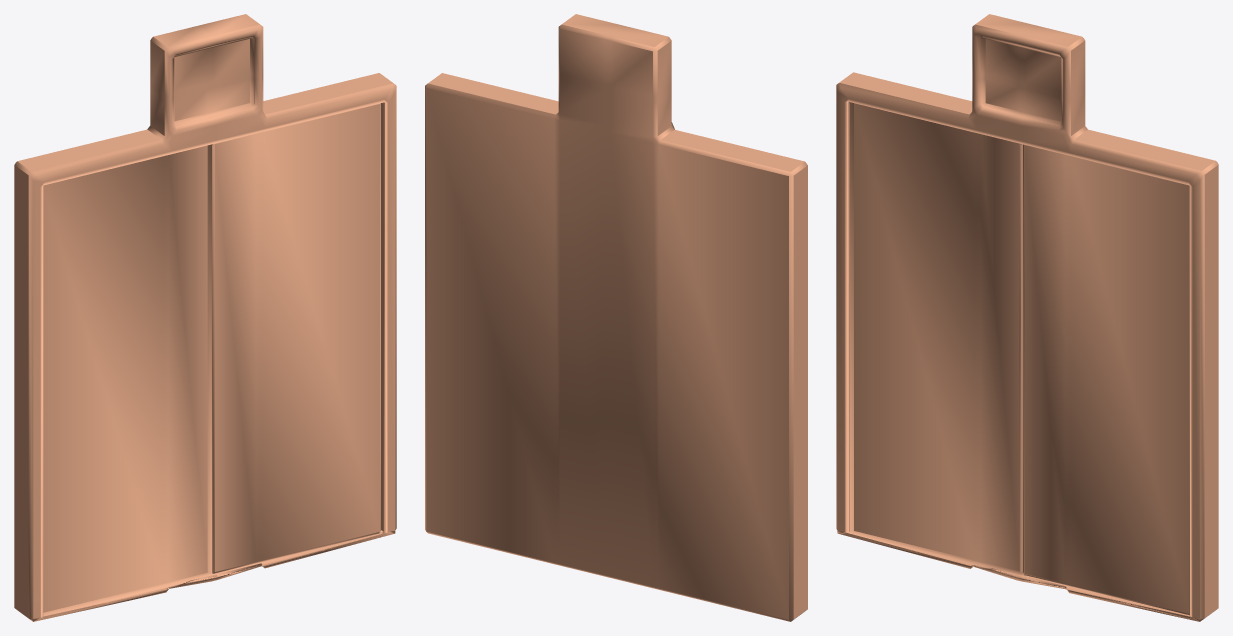
File: Elevator.fbx
The picture shows the model from 3 angles, left to right: view 1: azimuth 30°, elevation 25°; view 2: azimuth 150°, elevation 25°; view 3: azimuth 330°, elevation 25°; orthographic projection.
Parts seen in each view (by area): view 1: elevator; view 2: elevator; view 3: elevator.
Part boxes in pixels (<box>): elevator: <box>14,14,396,621</box>; elevator: <box>425,14,807,621</box>; elevator: <box>836,14,1218,621</box>.
Size of the model in its own units: 274 by 387 by 22.7.
